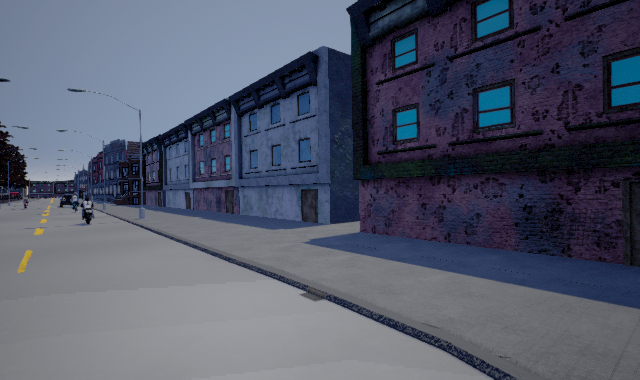motobike: (79, 198, 96, 224)
vehicle: (58, 192, 80, 209)
